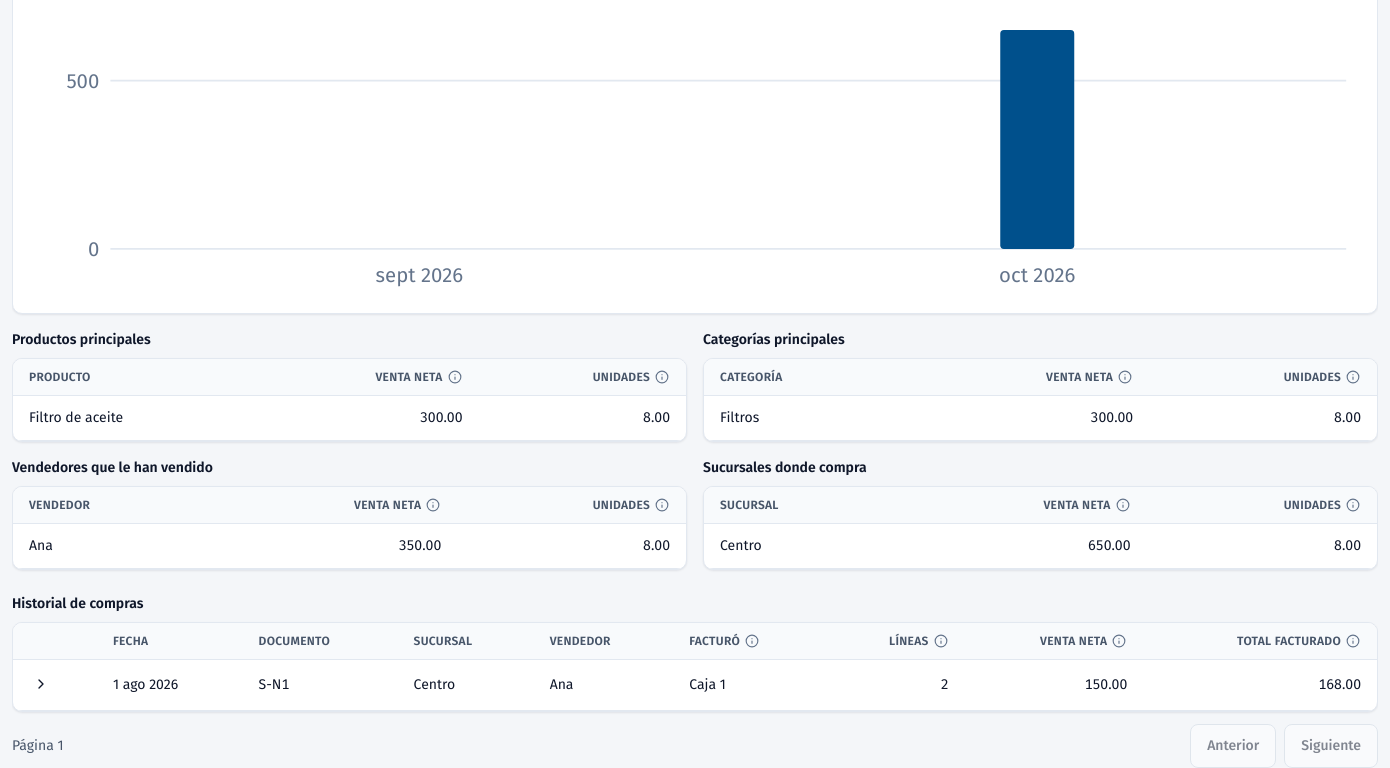
ficha de cliente › muestra totales, frecuencia, avisos de historial y detalle de una compra
(page scrolled)
expect the table named "Productos principales" shows "Filtro de aceite": met, box [29, 409, 123, 426]
What coordinates should you click on to do the following:
click the button named "Ver productos de S-N1"
I would click on:
 (41, 684)
Its box is [29, 672, 53, 696].
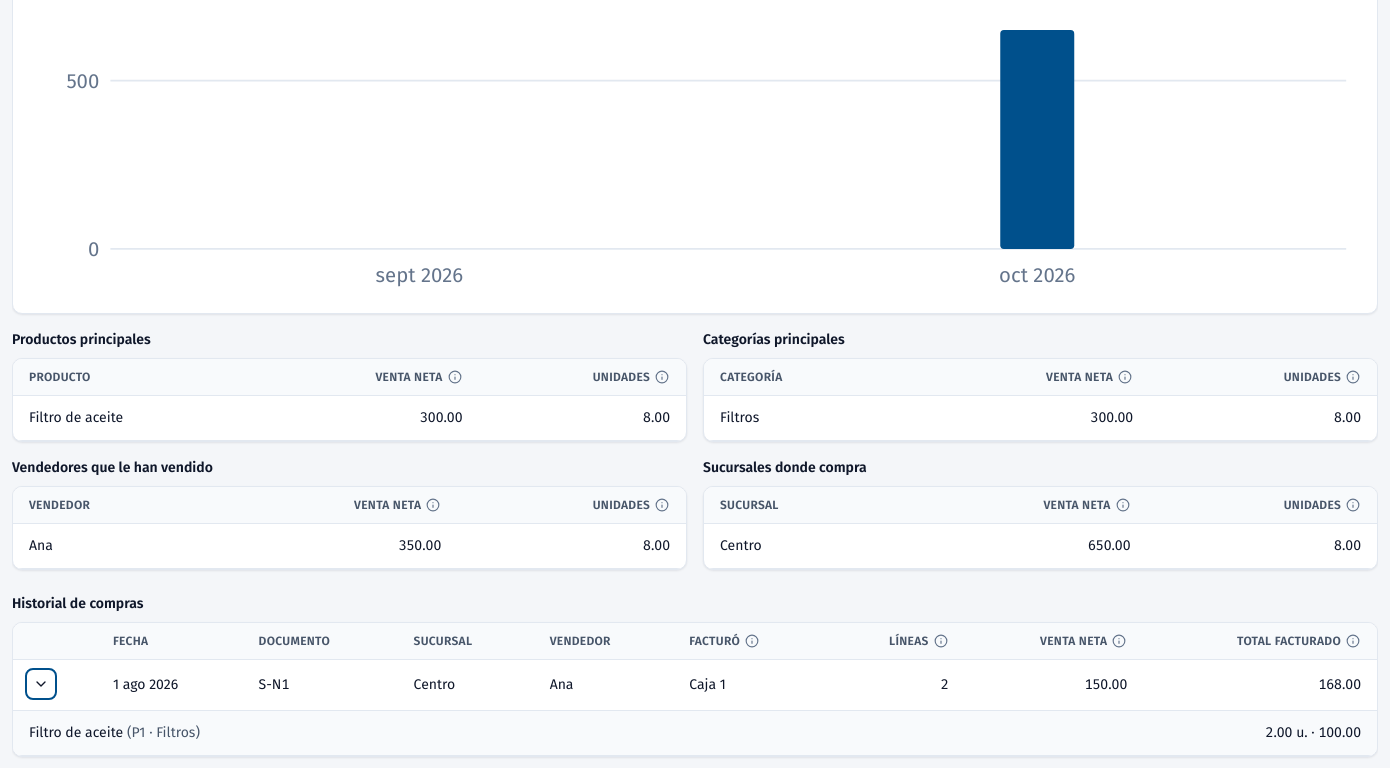
expect the text "(P1 · Filtros)" is shown: met, box [127, 724, 200, 741]
What coordinates should you click on to do the following:
click the button named "Ocultar productos de S-N1"
I would click on:
 (41, 684)
Its box is [29, 672, 53, 696].
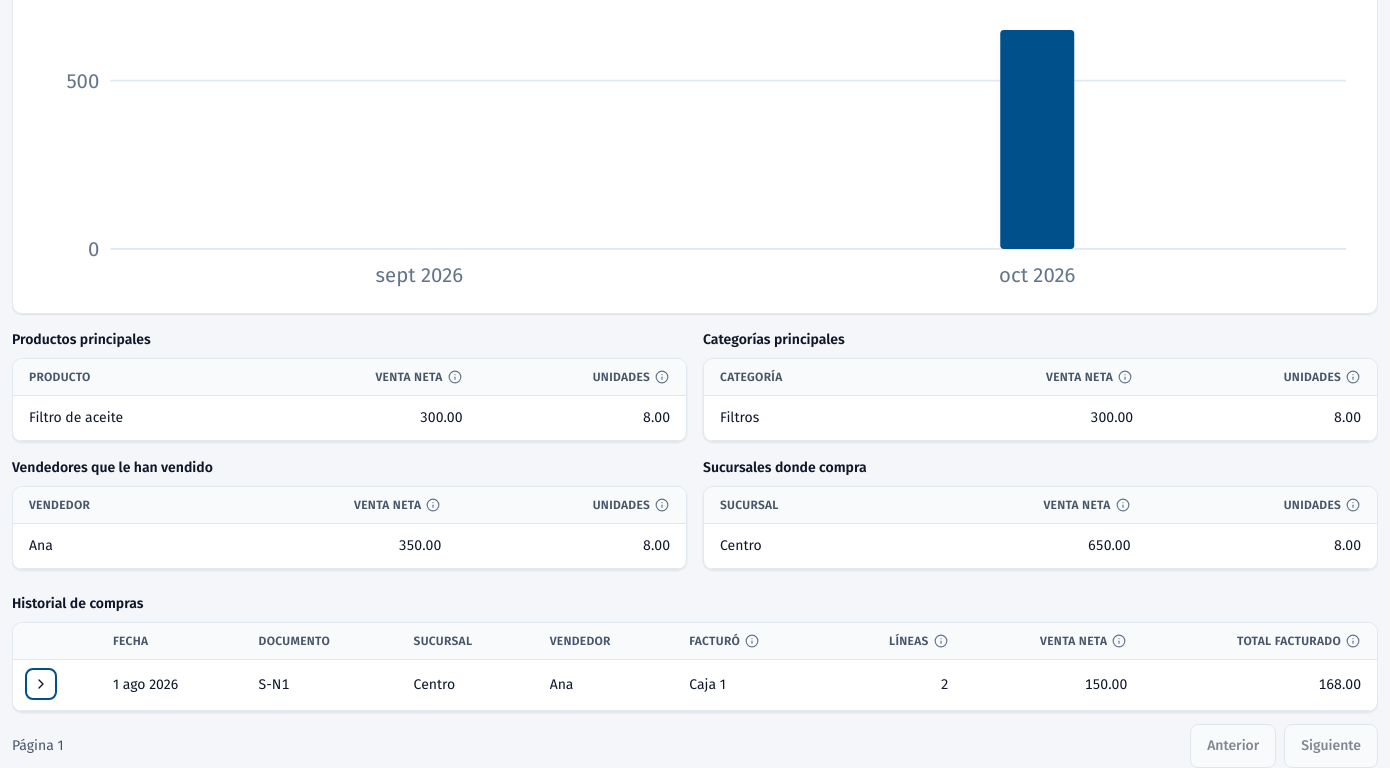
expect the text "(P1 · Filtros)" is gone: met
